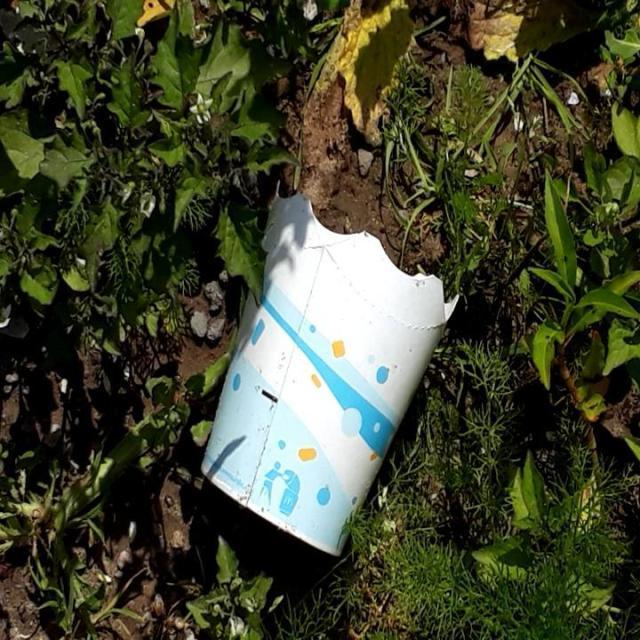Paper: (196, 176, 462, 560)
